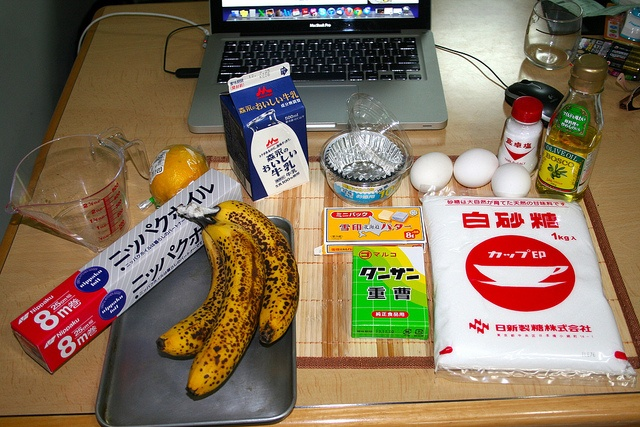bowl: (318, 124, 640, 331)
cup: (10, 134, 145, 385)
